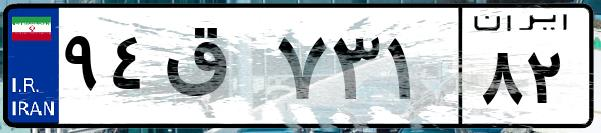1: (385, 28, 445, 110)
2: (525, 38, 570, 115)
3: (330, 28, 385, 110)
4: (110, 28, 158, 98)
7: (270, 28, 330, 110)
8: (475, 38, 525, 113)
9: (57, 26, 110, 100)
ق: (158, 20, 270, 120)
